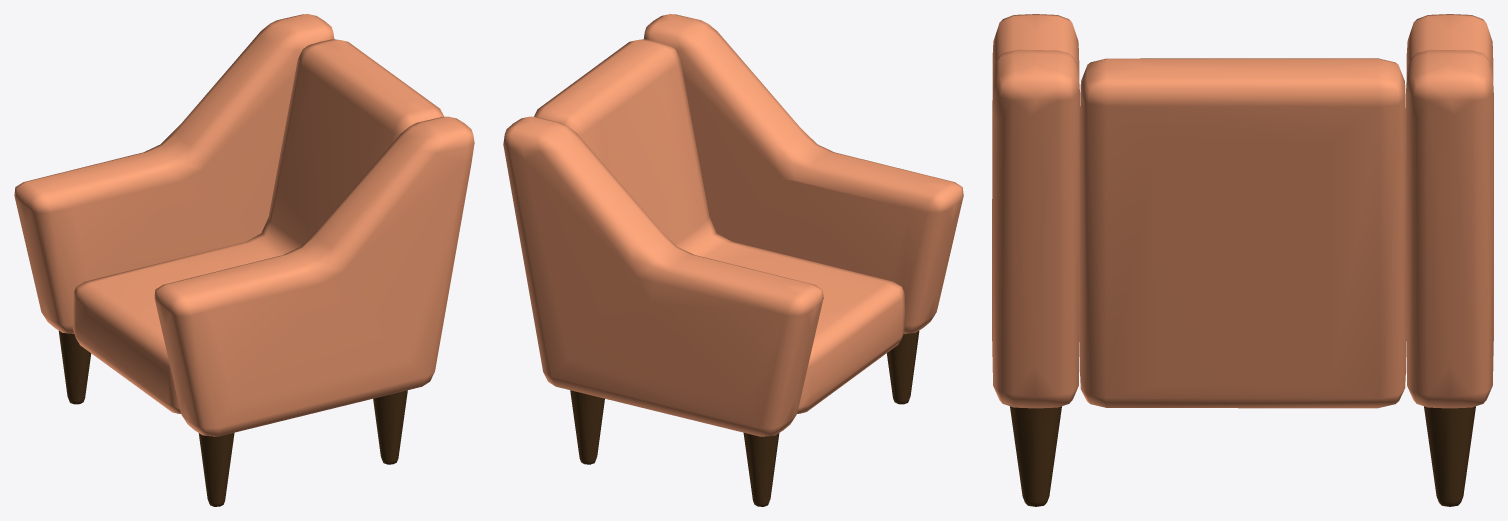
Rendered from armchair_01_salmon.fbx.
3 views of the same model, side by side, from view 1: azimuth 30°, elevation 25°; view 2: azimuth 150°, elevation 25°; view 3: azimuth 270°, elevation 25° (orthographic). The views are drawn at different scales.
Visible parts, largest first — view 1: armchair_01_salmon; view 2: armchair_01_salmon; view 3: armchair_01_salmon.
Part boxes in pixels (left/top/right/bottom): armchair_01_salmon: left=14, top=14, right=474, bottom=506; armchair_01_salmon: left=503, top=14, right=963, bottom=506; armchair_01_salmon: left=992, top=14, right=1493, bottom=506.
Size of the model in its own units: 101 by 104 by 98.01.
2 materials, 2 textured.
